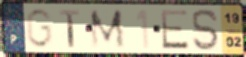1: (136, 9, 150, 50)
E: (159, 9, 191, 51)
G: (24, 7, 54, 49)
M: (89, 8, 127, 50)
S: (191, 7, 222, 52)
T: (58, 8, 81, 48)
